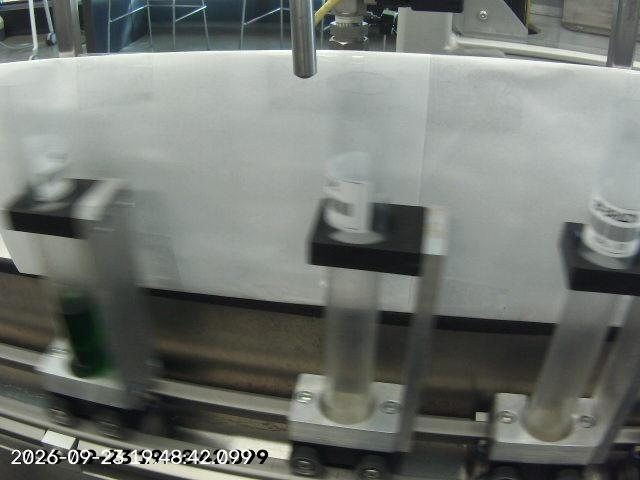vial: (1, 59, 170, 415), (496, 75, 640, 436), (294, 66, 407, 427)
